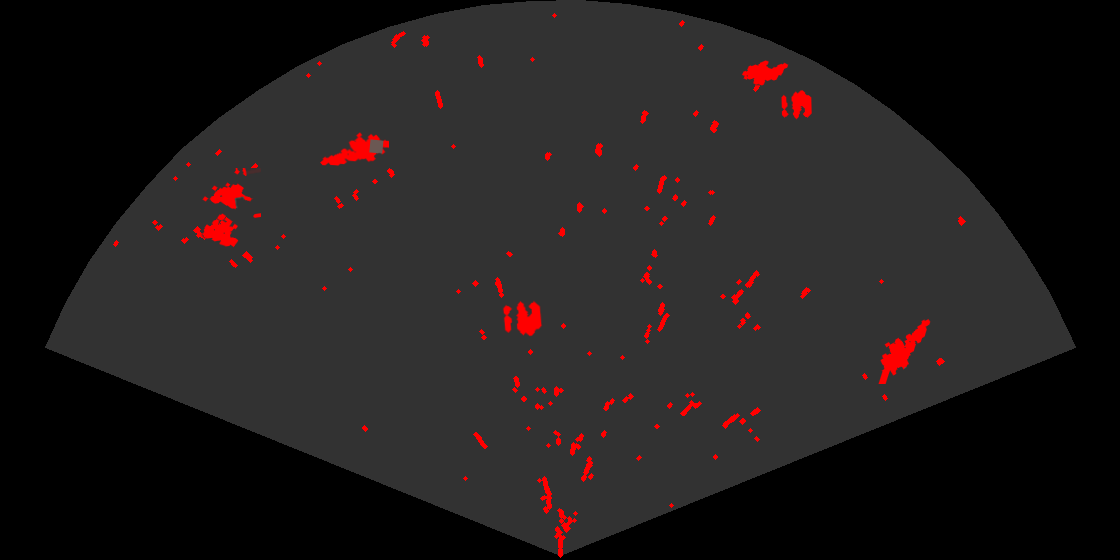AUV: (740, 59, 790, 87)
ball: (501, 299, 544, 338), (780, 89, 813, 121)
cage: (201, 168, 261, 249)
frogman: (877, 318, 932, 384), (319, 131, 389, 168)
